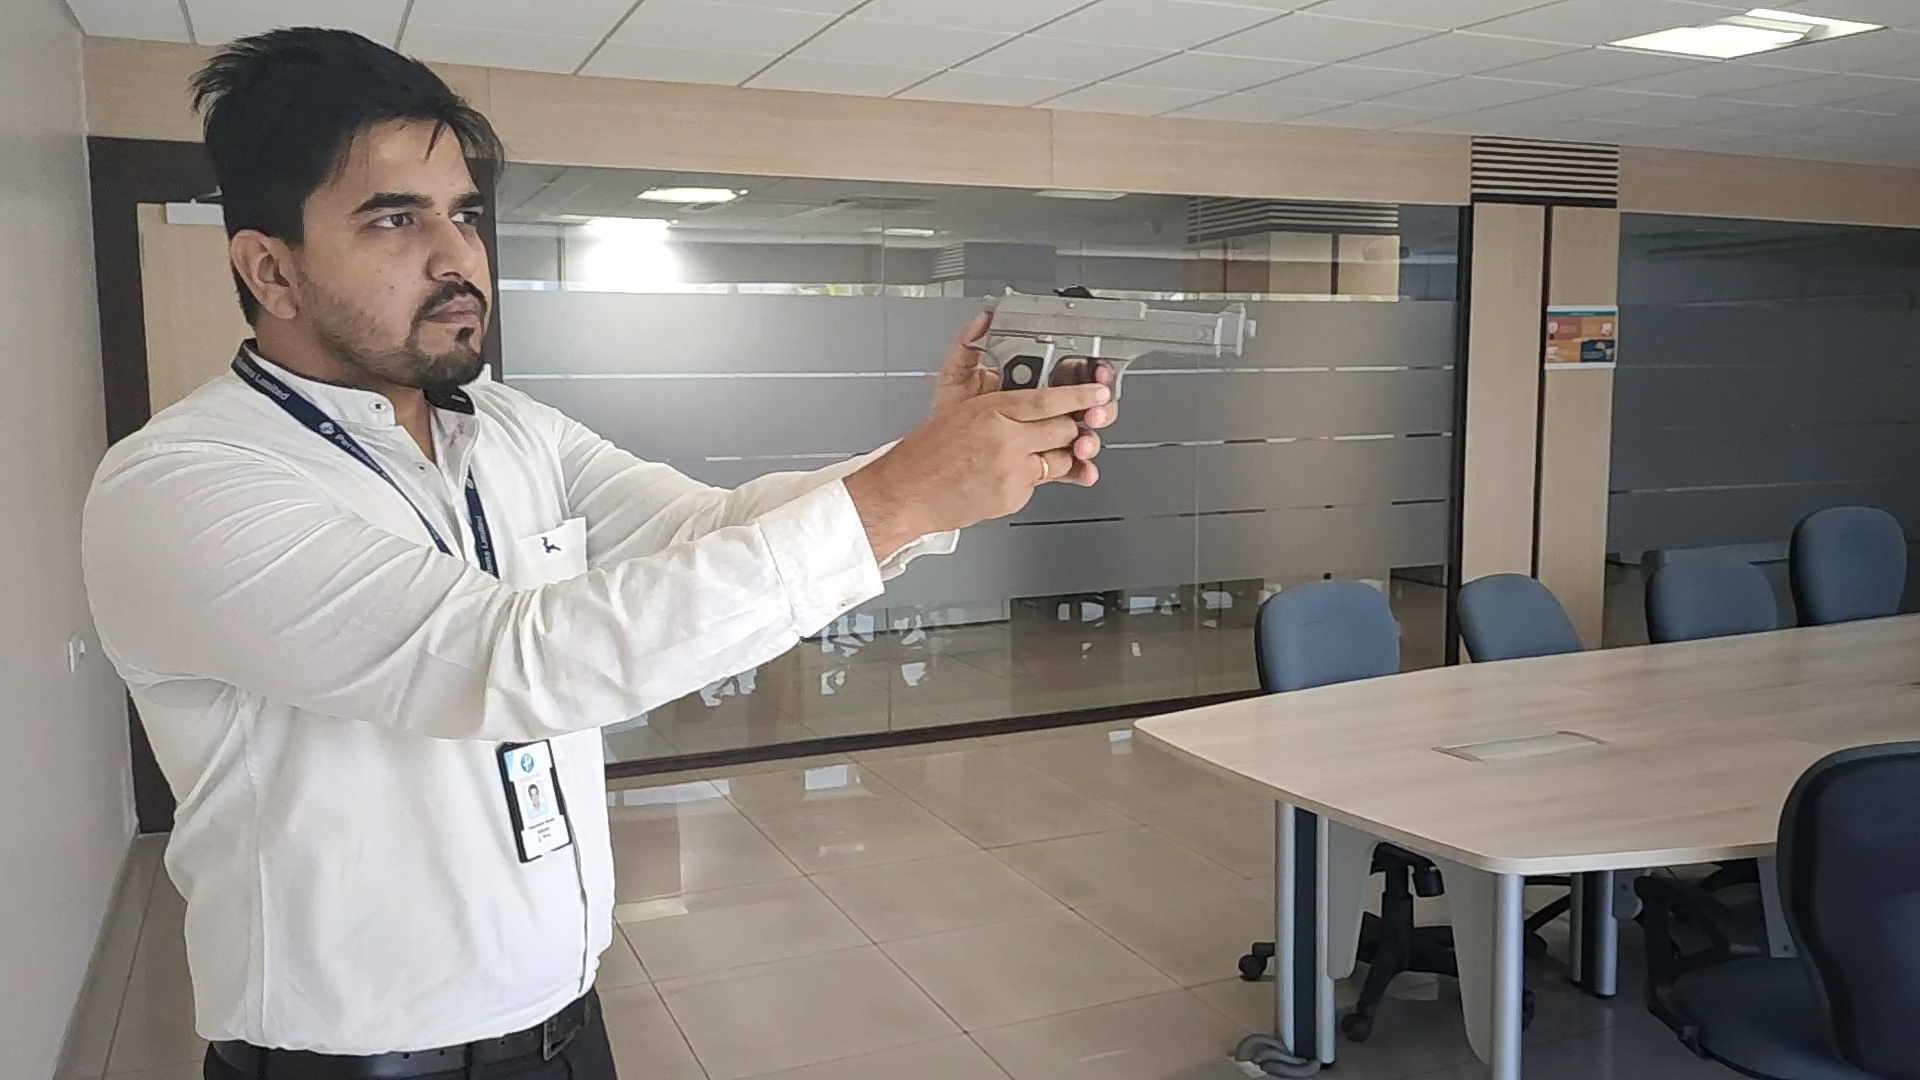gun: (968, 285, 1261, 400)
